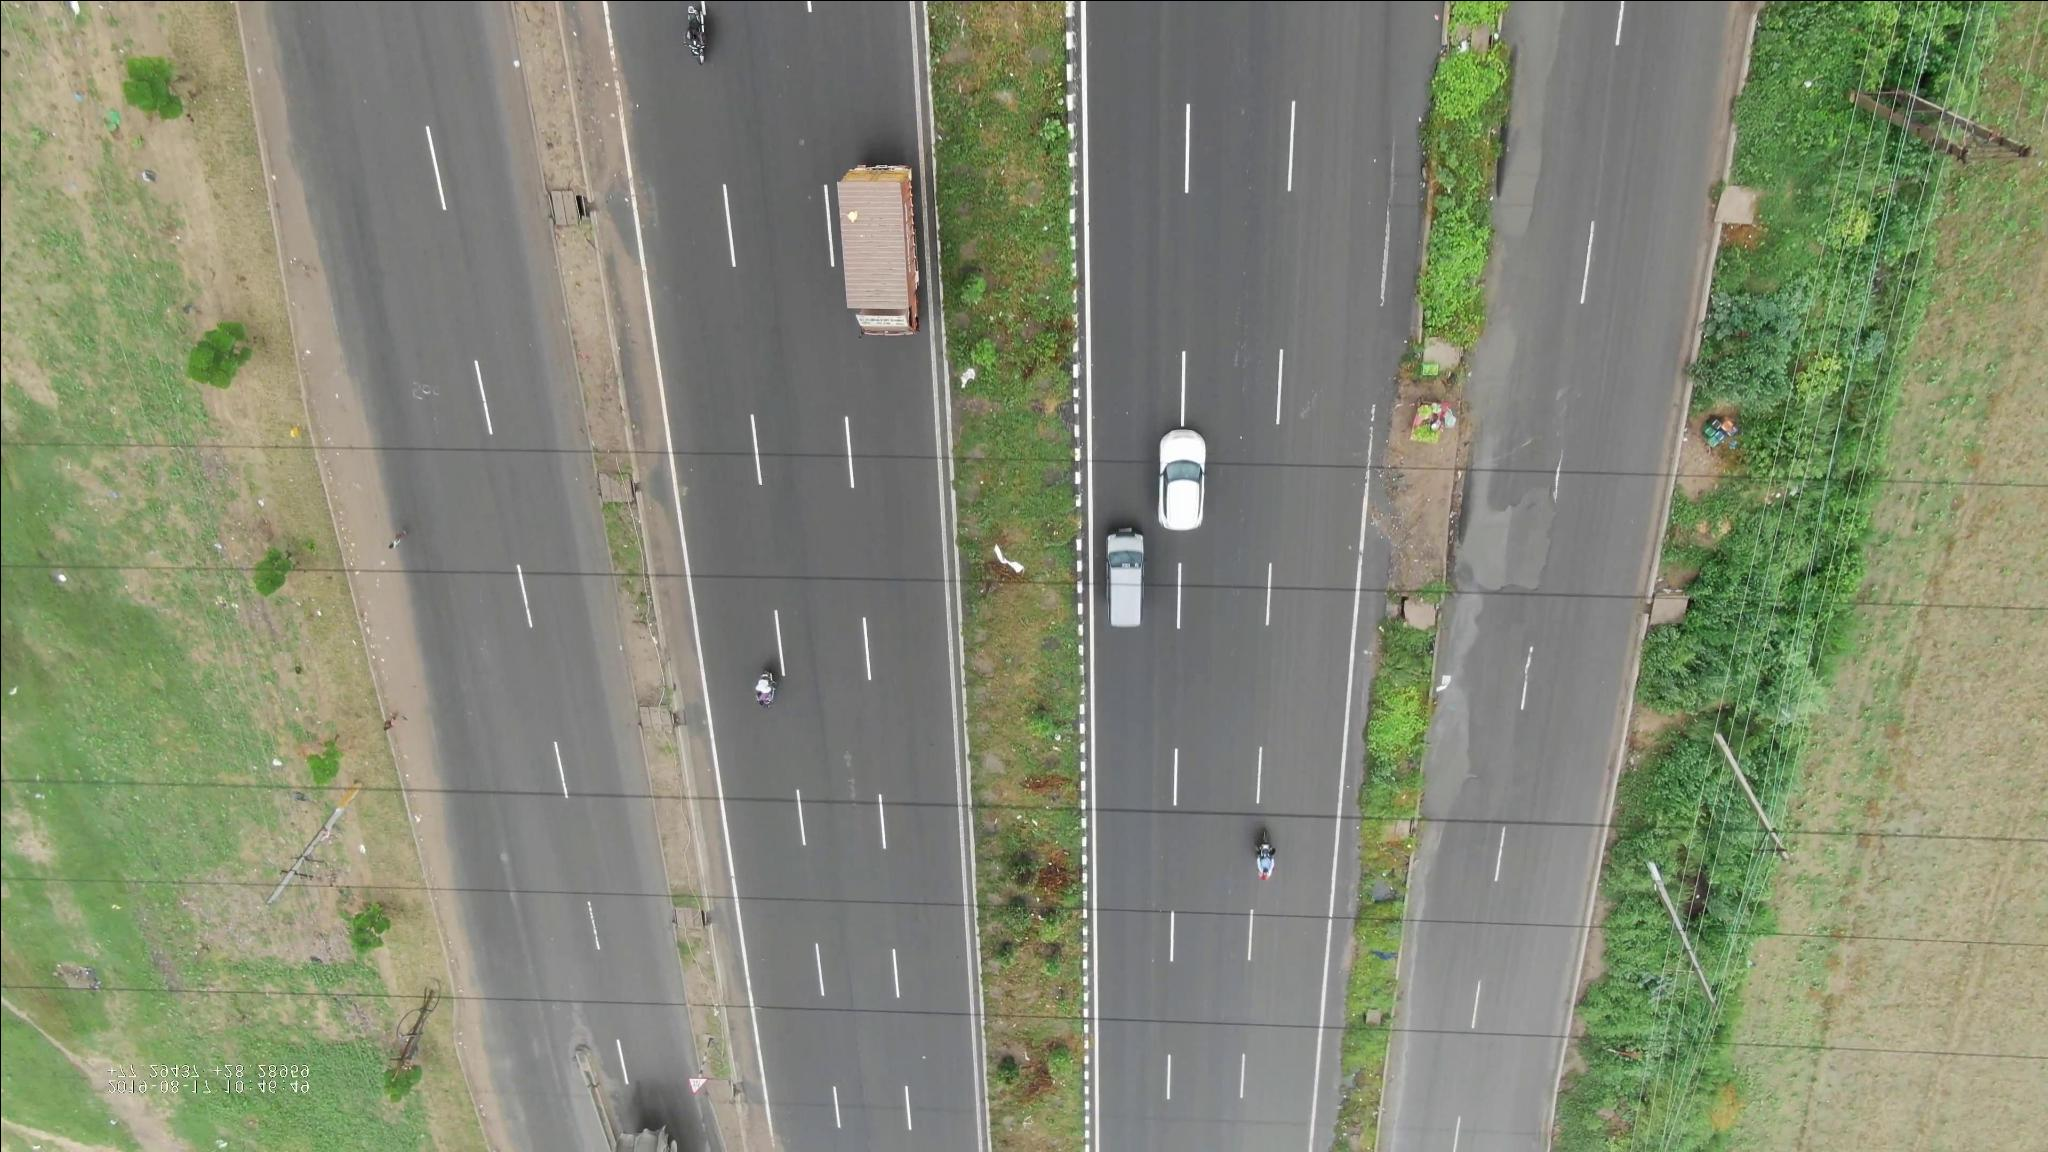Potholes: (1429, 481, 1563, 670), (1404, 672, 1471, 924)
